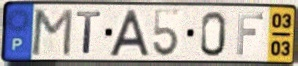0: (199, 10, 229, 59)
5: (151, 7, 185, 59)
A: (107, 8, 152, 58)
F: (235, 11, 266, 57)
M: (29, 7, 75, 58)
T: (74, 10, 104, 56)
